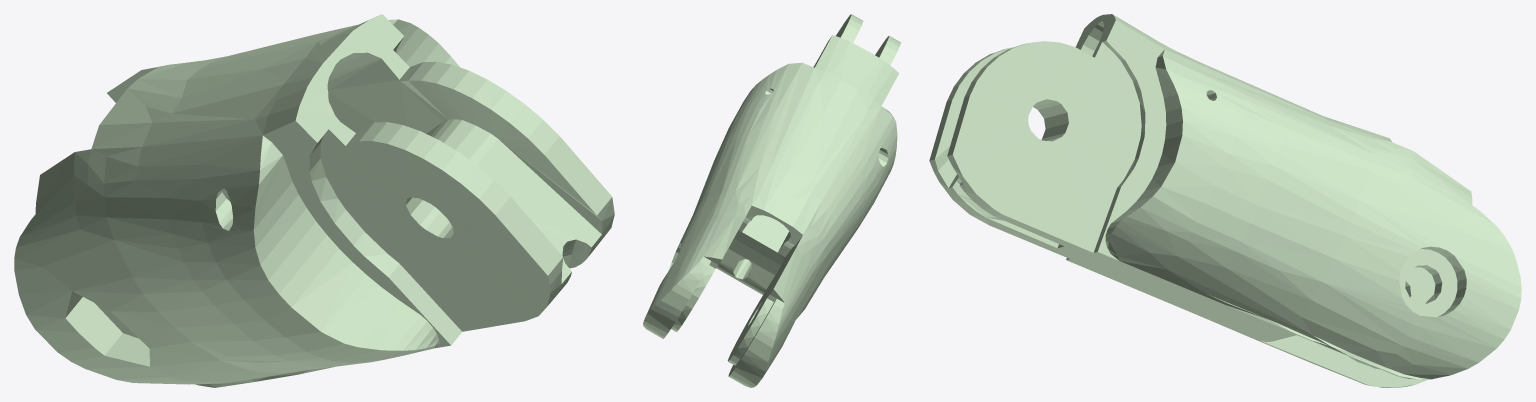
The model's file is i02_rightHand_indexPhal_visual.obj.light.glb.
3 renders of one model, left to right at view 1: azimuth 30°, elevation 25°; view 2: azimuth 150°, elevation 25°; view 3: azimuth 270°, elevation 25°, orthographic. The views are drawn at different scales.
Bounding box in the file's own units: 0.2047 × 0.3471 × 0.4992.
